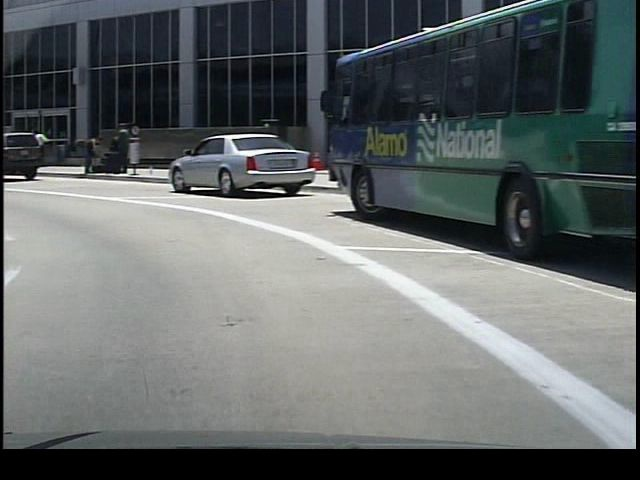person: (70, 125, 99, 179), (107, 122, 129, 176)
